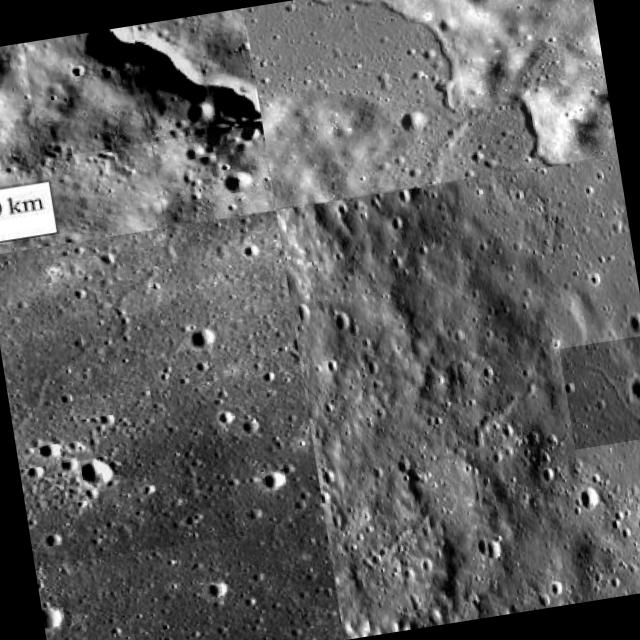rille: (0, 224, 238, 567), (244, 0, 477, 208), (23, 9, 261, 160), (560, 335, 640, 449), (516, 90, 616, 168)
